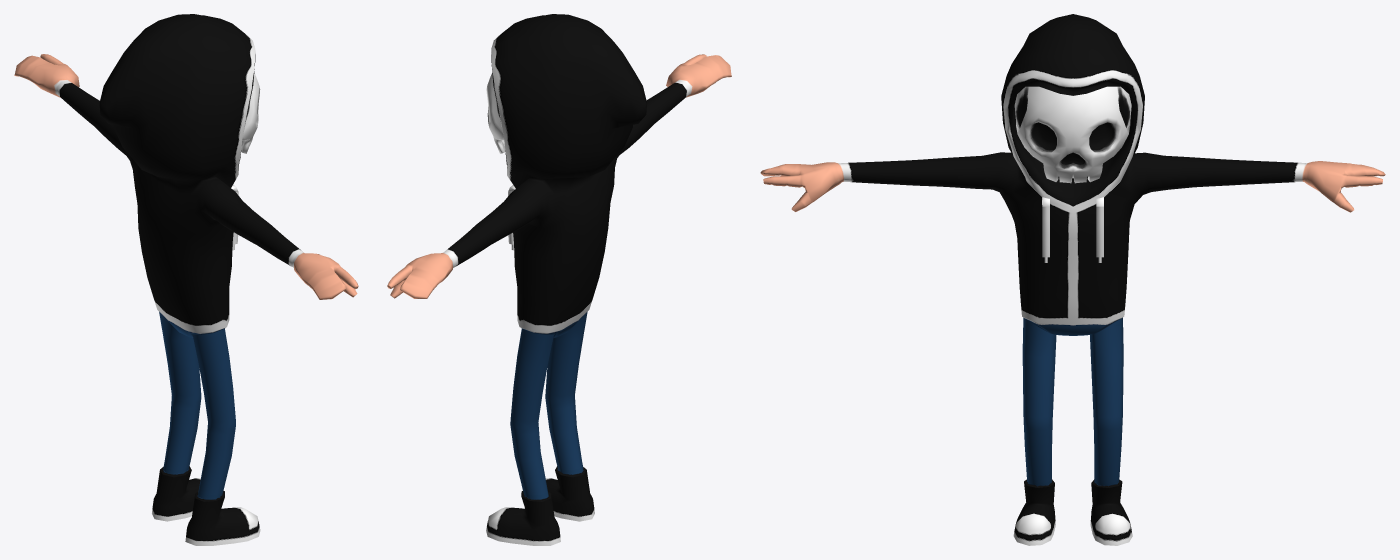
File: player.glb
The picture shows the model from 3 angles, left to right: view 1: azimuth 30°, elevation 25°; view 2: azimuth 150°, elevation 25°; view 3: azimuth 270°, elevation 25°; orthographic projection.
Parts seen in each view (by area): view 1: Body_1; view 2: Body_1; view 3: Body_1.
Part boxes in pixels (x1,y1,x2,y2): Body_1: [14, 14, 358, 545]; Body_1: [387, 14, 731, 545]; Body_1: [760, 14, 1385, 545].
Size of the model in its own units: 1.4 by 4.39 by 5.
1 material, 1 textured.
